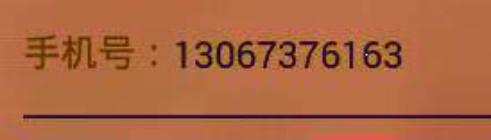EditText: (1, 1, 490, 139)
